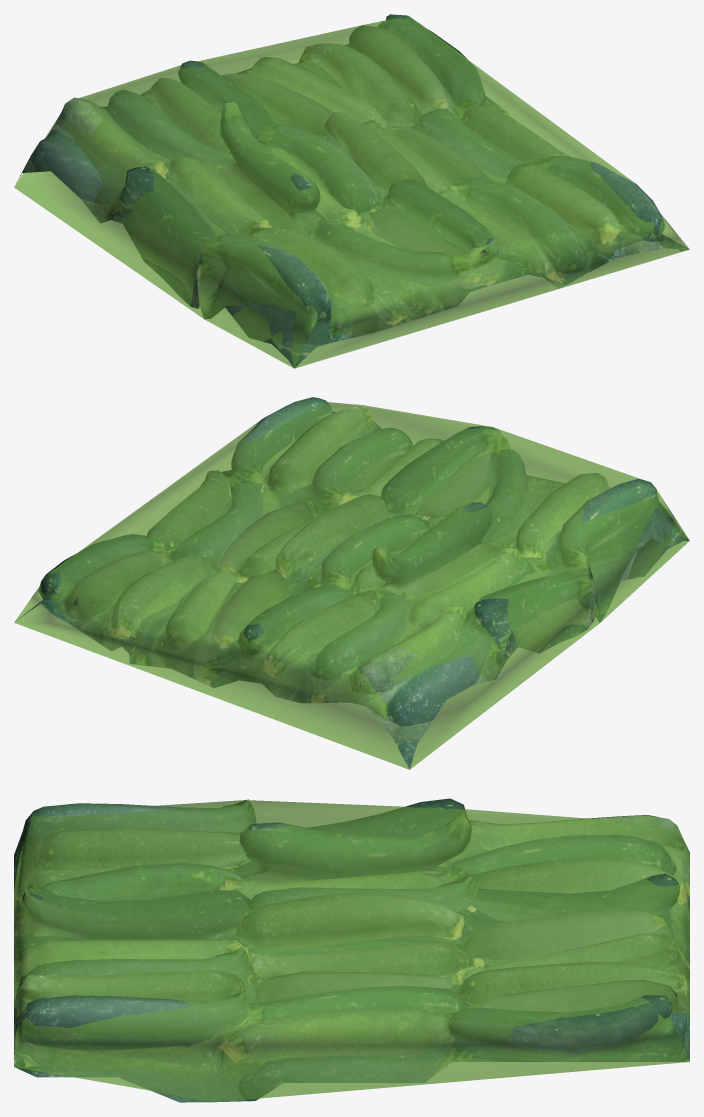
Rendered from pg_Zucchini_Pile_01.fbx.
3 views of the same model, one above another, from view 1: azimuth 30°, elevation 25°; view 2: azimuth 150°, elevation 25°; view 3: azimuth 270°, elevation 25° (orthographic). The views are drawn at different scales.
Parts seen in each view (by area): view 1: pg_Zucchini_pile_a_col, pg_Zucchini_pile_a_LOD0; view 2: pg_Zucchini_pile_a_col, pg_Zucchini_pile_a_LOD0; view 3: pg_Zucchini_pile_a_LOD0, pg_Zucchini_pile_a_col.
Boxes of the visible parts, x1=… form: pg_Zucchini_pile_a_col: x1=14, y1=16, x2=689, y2=368; pg_Zucchini_pile_a_LOD0: x1=16, y1=14, x2=689, y2=368; pg_Zucchini_pile_a_col: x1=14, y1=402, x2=689, y2=769; pg_Zucchini_pile_a_LOD0: x1=18, y1=397, x2=689, y2=769; pg_Zucchini_pile_a_LOD0: x1=14, y1=798, x2=689, y2=1102; pg_Zucchini_pile_a_col: x1=14, y1=800, x2=689, y2=1101.
Size of what is drawn, in the model's own units: 48 by 14.22 by 58.23.
2 materials, 1 textured.
